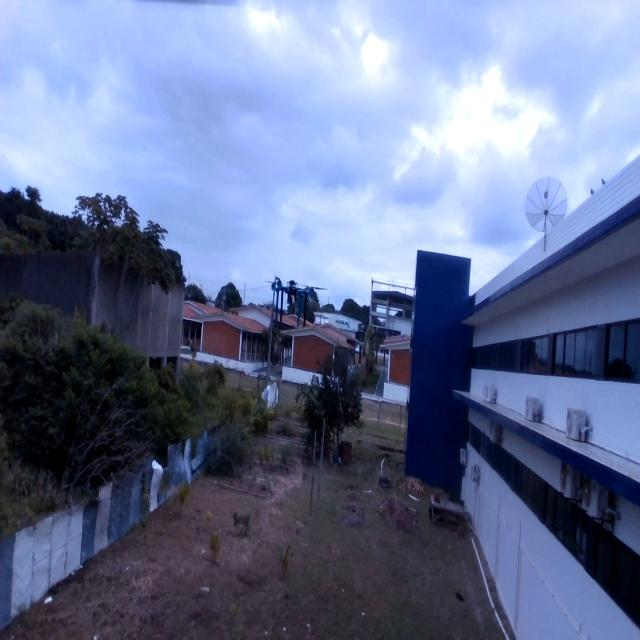-uav-: (263, 266, 324, 334)
